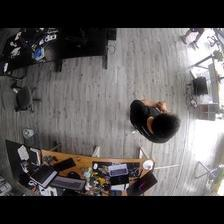normal: (129, 96, 181, 145)
